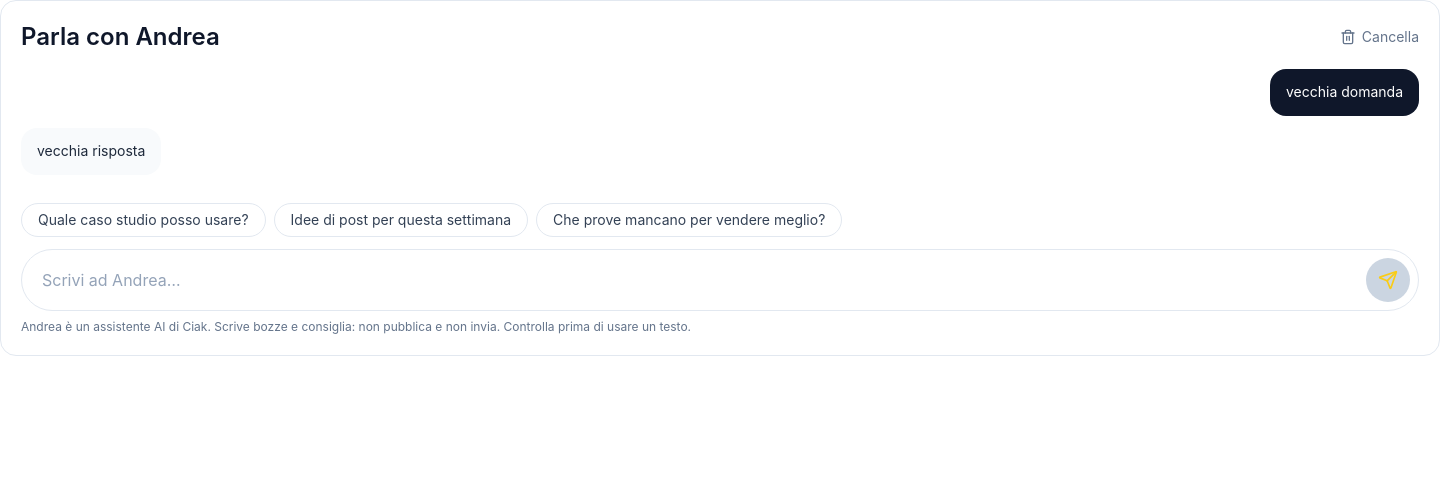
mostra lo storico e manda un messaggio con la risposta di Andrea
This screenshot has width=1440, height=490.
Expected: the text "vecchia risposta" is shown, [37,140,145,163]
Type "Che caso uso?" into the field labelled "Scrivi ad Andrea" at (698,280), box [42,268,1354,292]
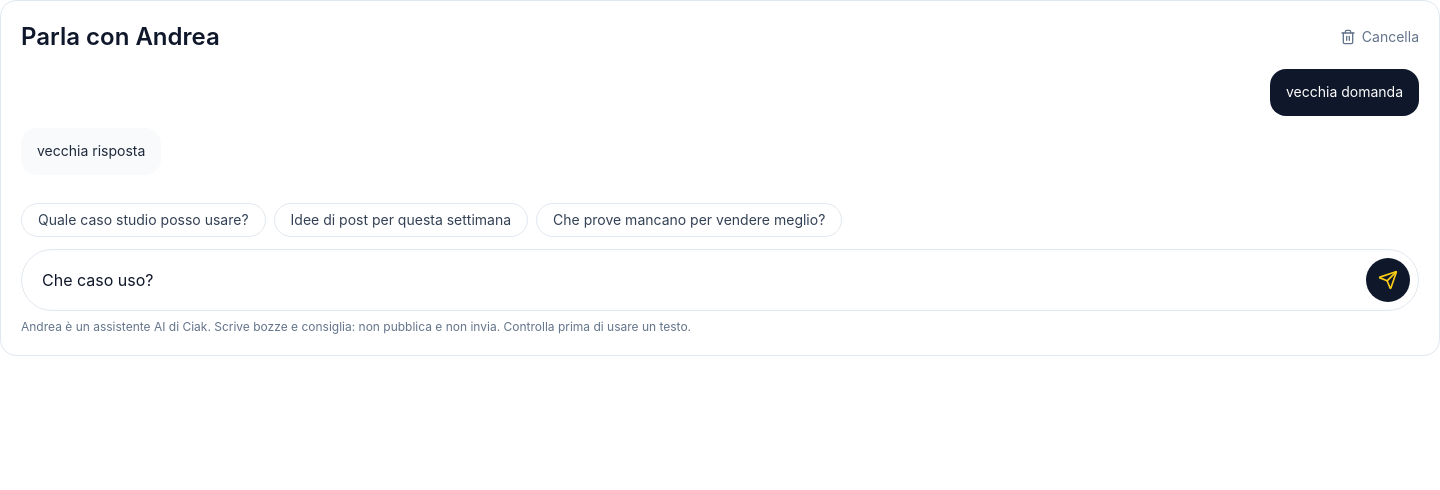
Click the button named "Invia ad Andrea" at (1388,280), box [1366,258,1410,302]
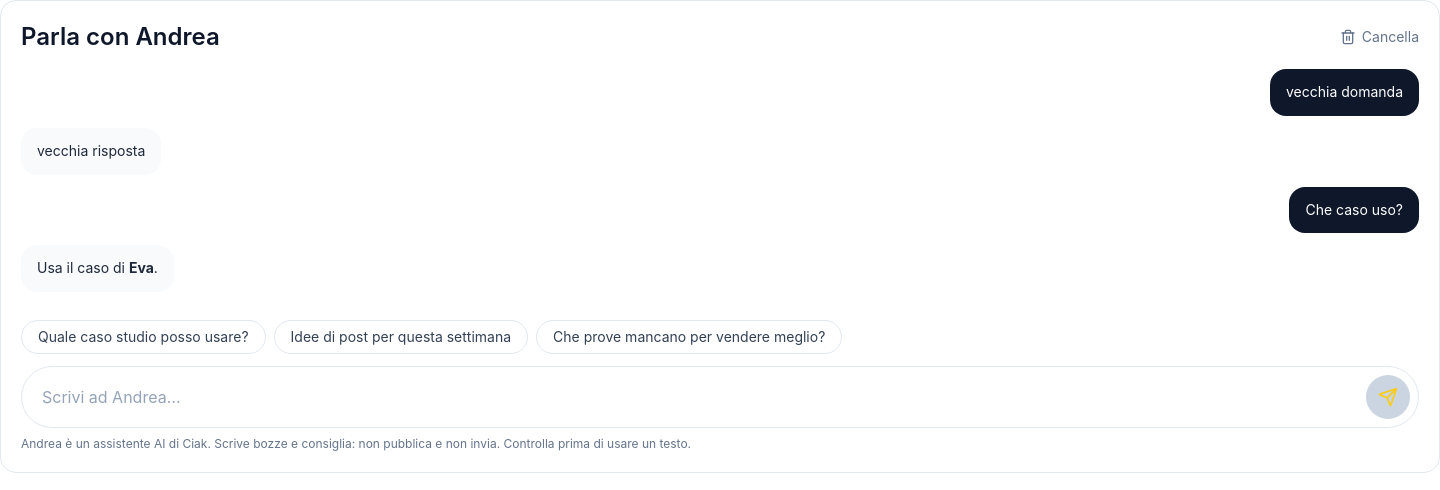
Now the text "Eva" is shown, box [129,259,154,276]
